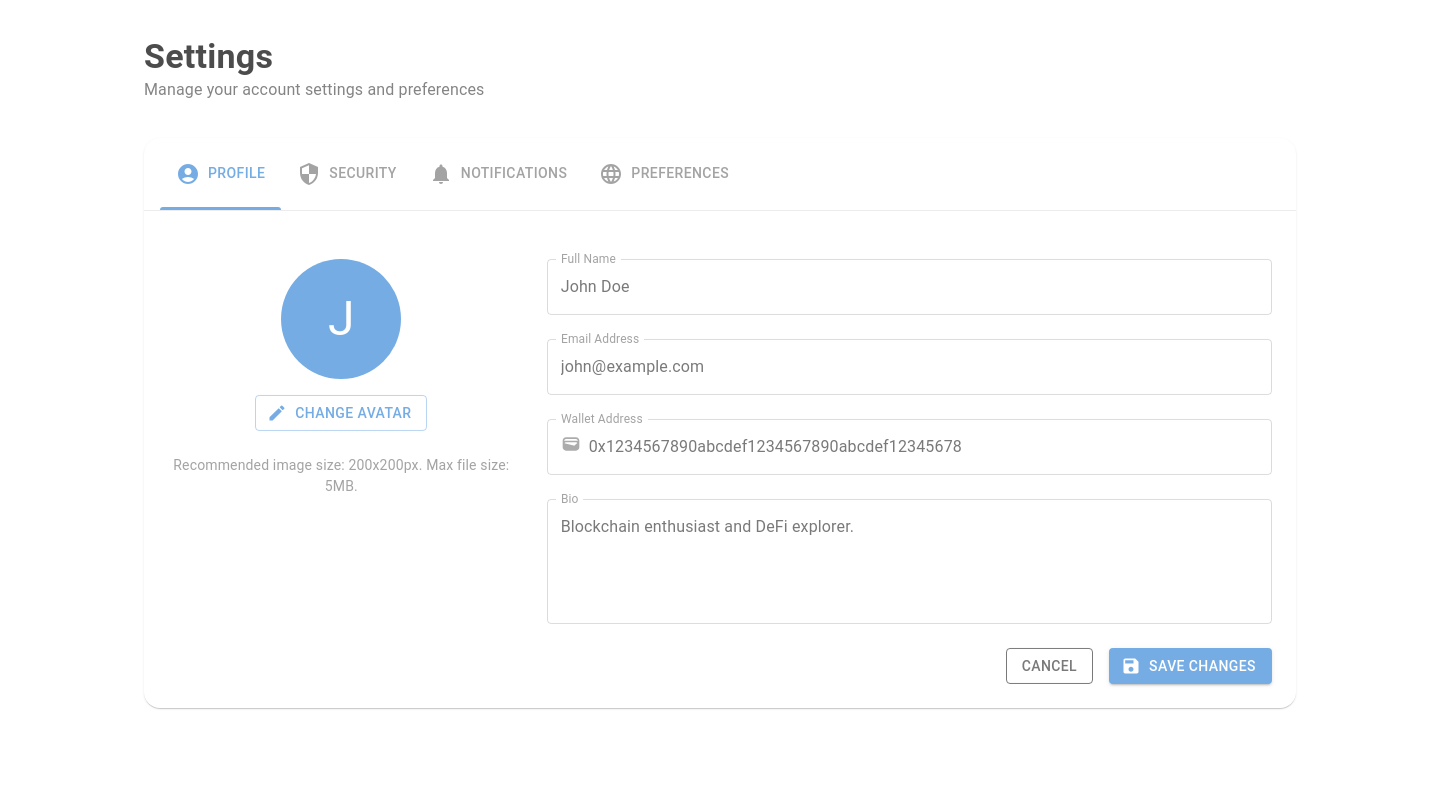
Test: Settings Page › switches to Preferences tab
Click the tab "Preferences".
click(664, 174)  # box [583, 138, 745, 210]
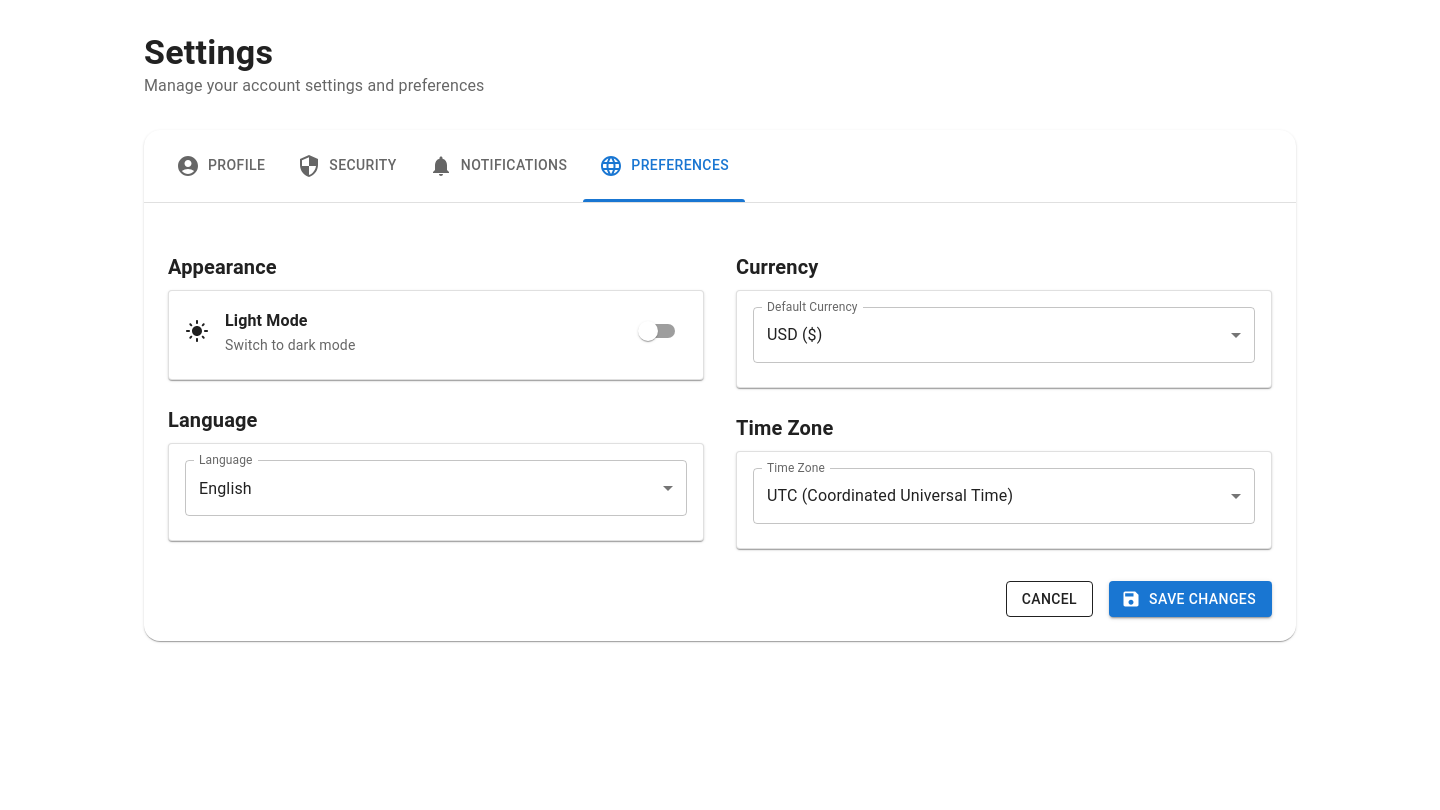
Check: the heading "Appearance" is shown, box [168, 255, 277, 279]
